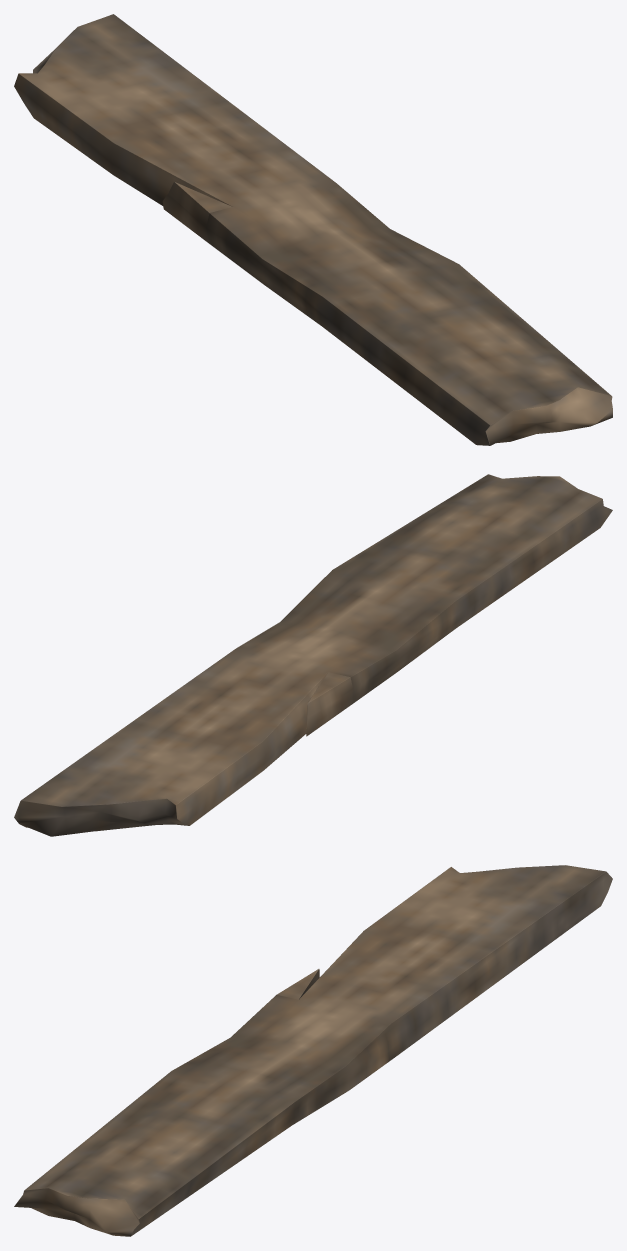
File: Planche4.glb
3 views of the same model, one above another, from view 1: azimuth 30°, elevation 25°; view 2: azimuth 150°, elevation 25°; view 3: azimuth 330°, elevation 25° (orthographic). The views are drawn at different scales.
Visible parts, largest first — view 1: plank_04_Planks_SHD_0; view 2: plank_04_Planks_SHD_0; view 3: plank_04_Planks_SHD_0.
Part boxes in pixels (x1=…): plank_04_Planks_SHD_0: x1=14, y1=14, x2=612, y2=445; plank_04_Planks_SHD_0: x1=14, y1=474, x2=612, y2=836; plank_04_Planks_SHD_0: x1=14, y1=865, x2=612, y2=1236.
Bounding box in the file's own units: 0.8312 × 0.1977 × 5.44.
1 material, 1 textured.
